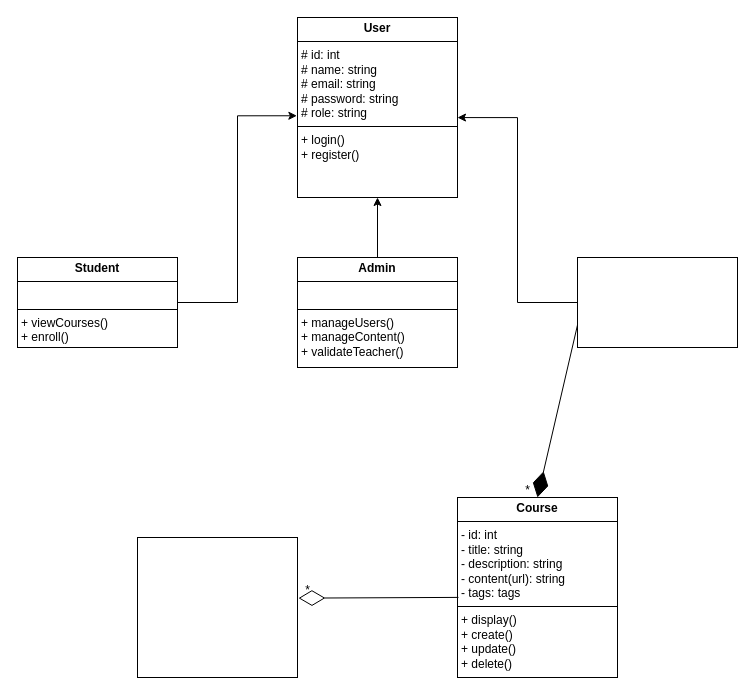
Some shapes in this 755 by 695 pixel diagram are drawn without their labels. The centre of each missing label's shape, as x and y in pixels:
"tag - id: int - name: string + display() + create() + update() + delete()" belongs at point 217,607.
"Teacher + viewStatistics()" belongs at point 657,302.
